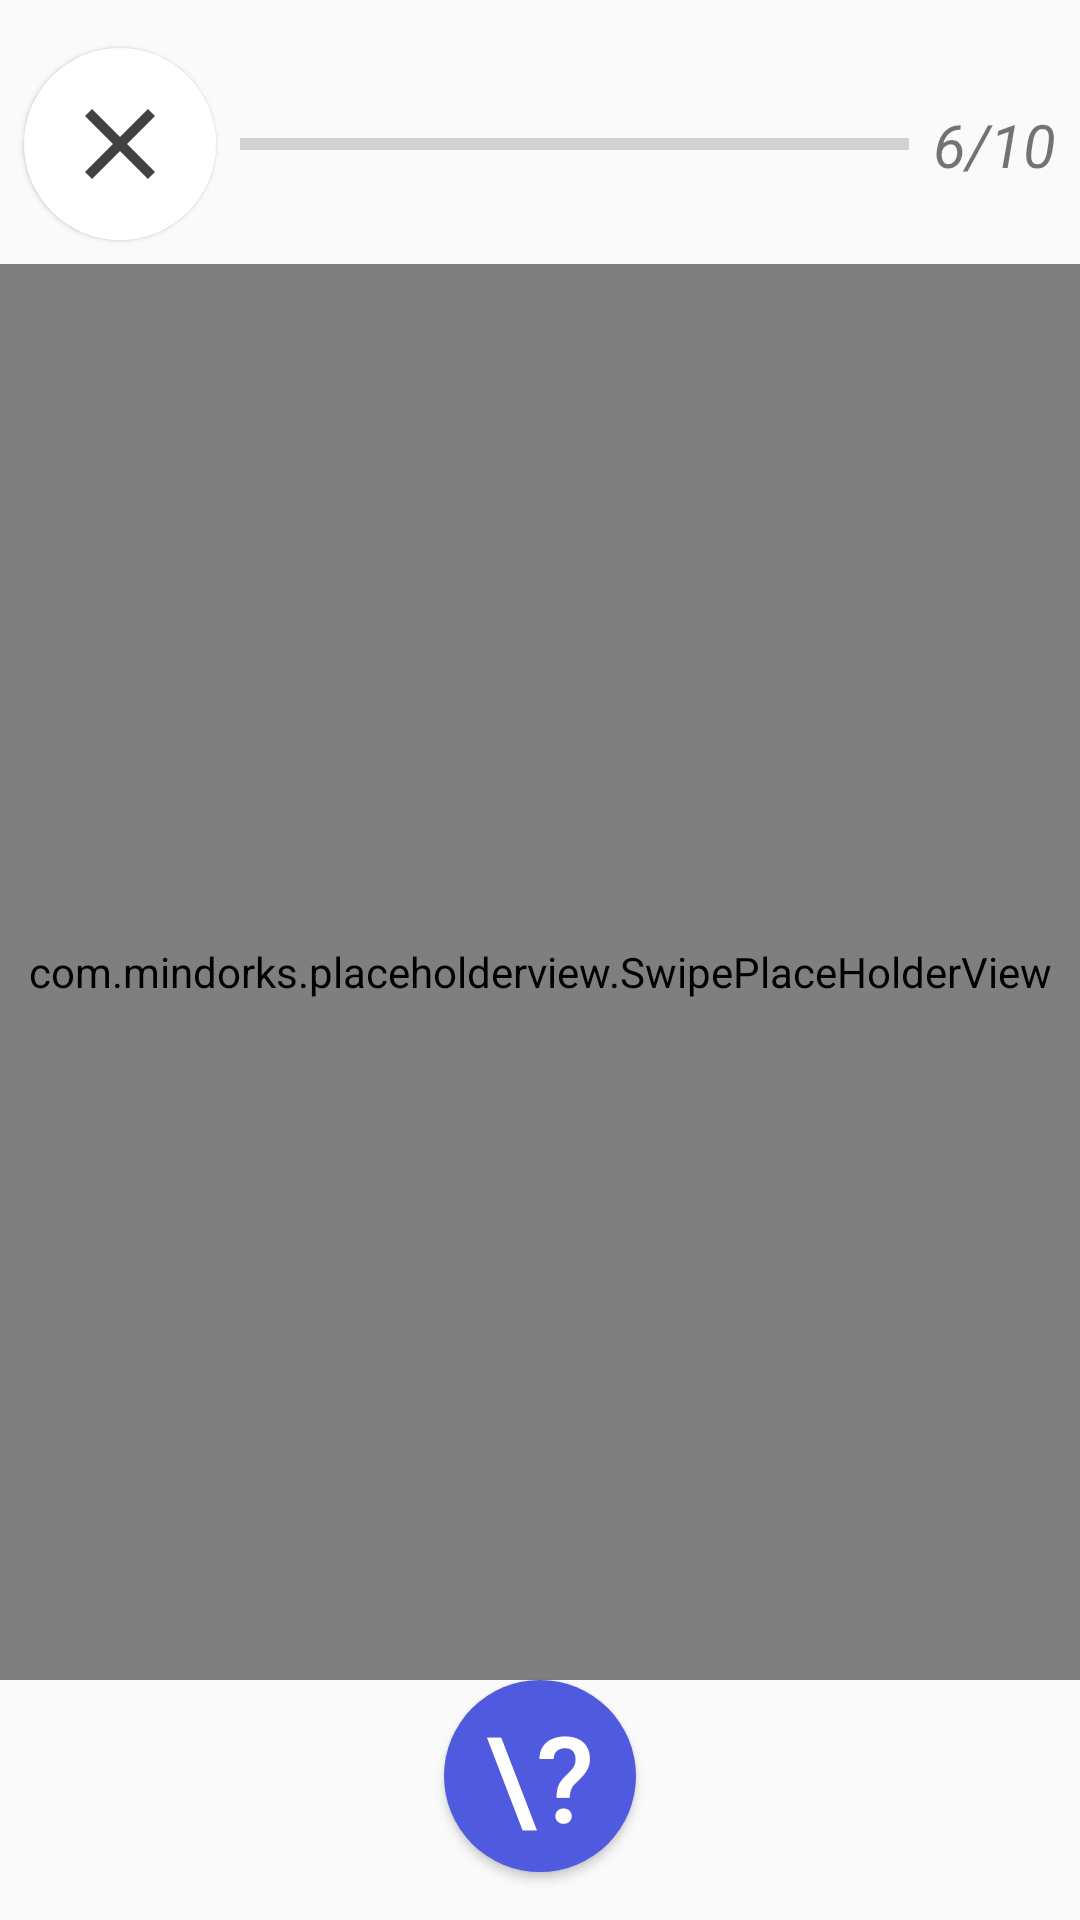

Icon click points for this 1080 × 1920 phone screenshot, format (x,y):
clear: (94,148)
